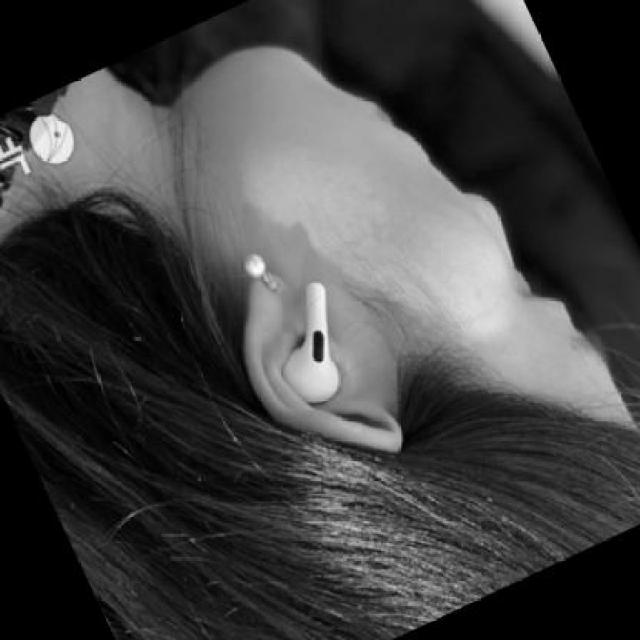earphone: (283, 263, 358, 419)
